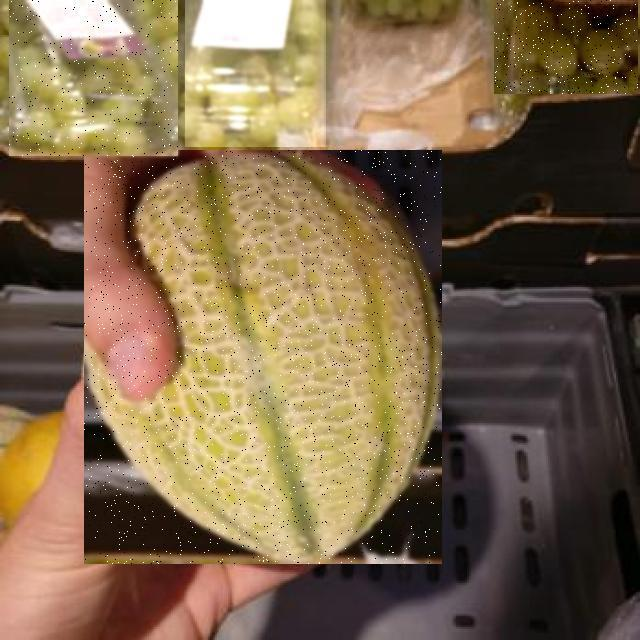Cantaloupe: (84, 151, 442, 565)
Grapes: (9, 0, 178, 156), (186, 0, 328, 147), (495, 0, 639, 94)
